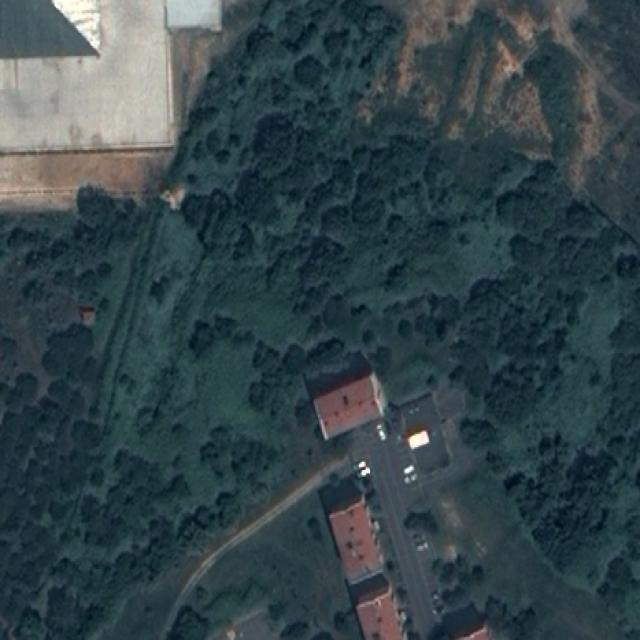Batiment: (305, 352, 384, 439), (319, 477, 382, 581), (356, 590, 402, 639), (440, 603, 490, 639), (408, 430, 430, 449)
